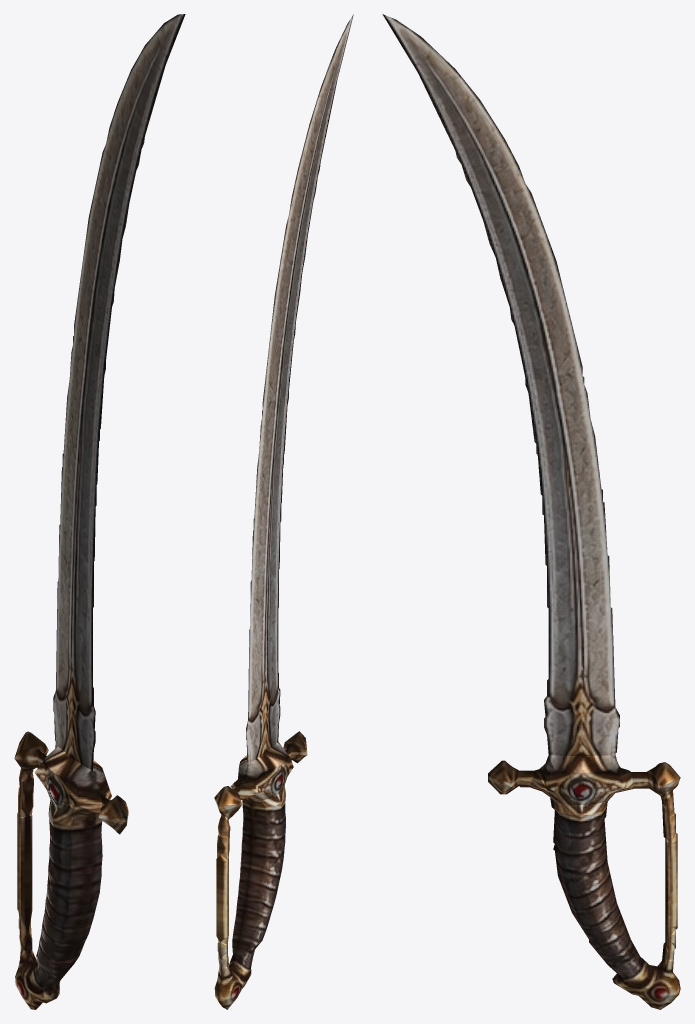
The model's file is sword-curved.glb.
3 views of the same model, side by side, from view 1: azimuth 30°, elevation 25°; view 2: azimuth 150°, elevation 25°; view 3: azimuth 270°, elevation 25° (orthographic). The views are drawn at different scales.
Parts seen in each view (by area): view 1: sword-curved; view 2: sword-curved; view 3: sword-curved.
Boxes of the visible parts, box(x1,y1,x2,y2) form: sword-curved: box(14, 14, 185, 1009); sword-curved: box(214, 14, 353, 1009); sword-curved: box(382, 14, 680, 1009).
Bounding box in the file's own units: 0.0412 × 0.95 × 0.2579.
Materials: 1 (1 with a texture image).
